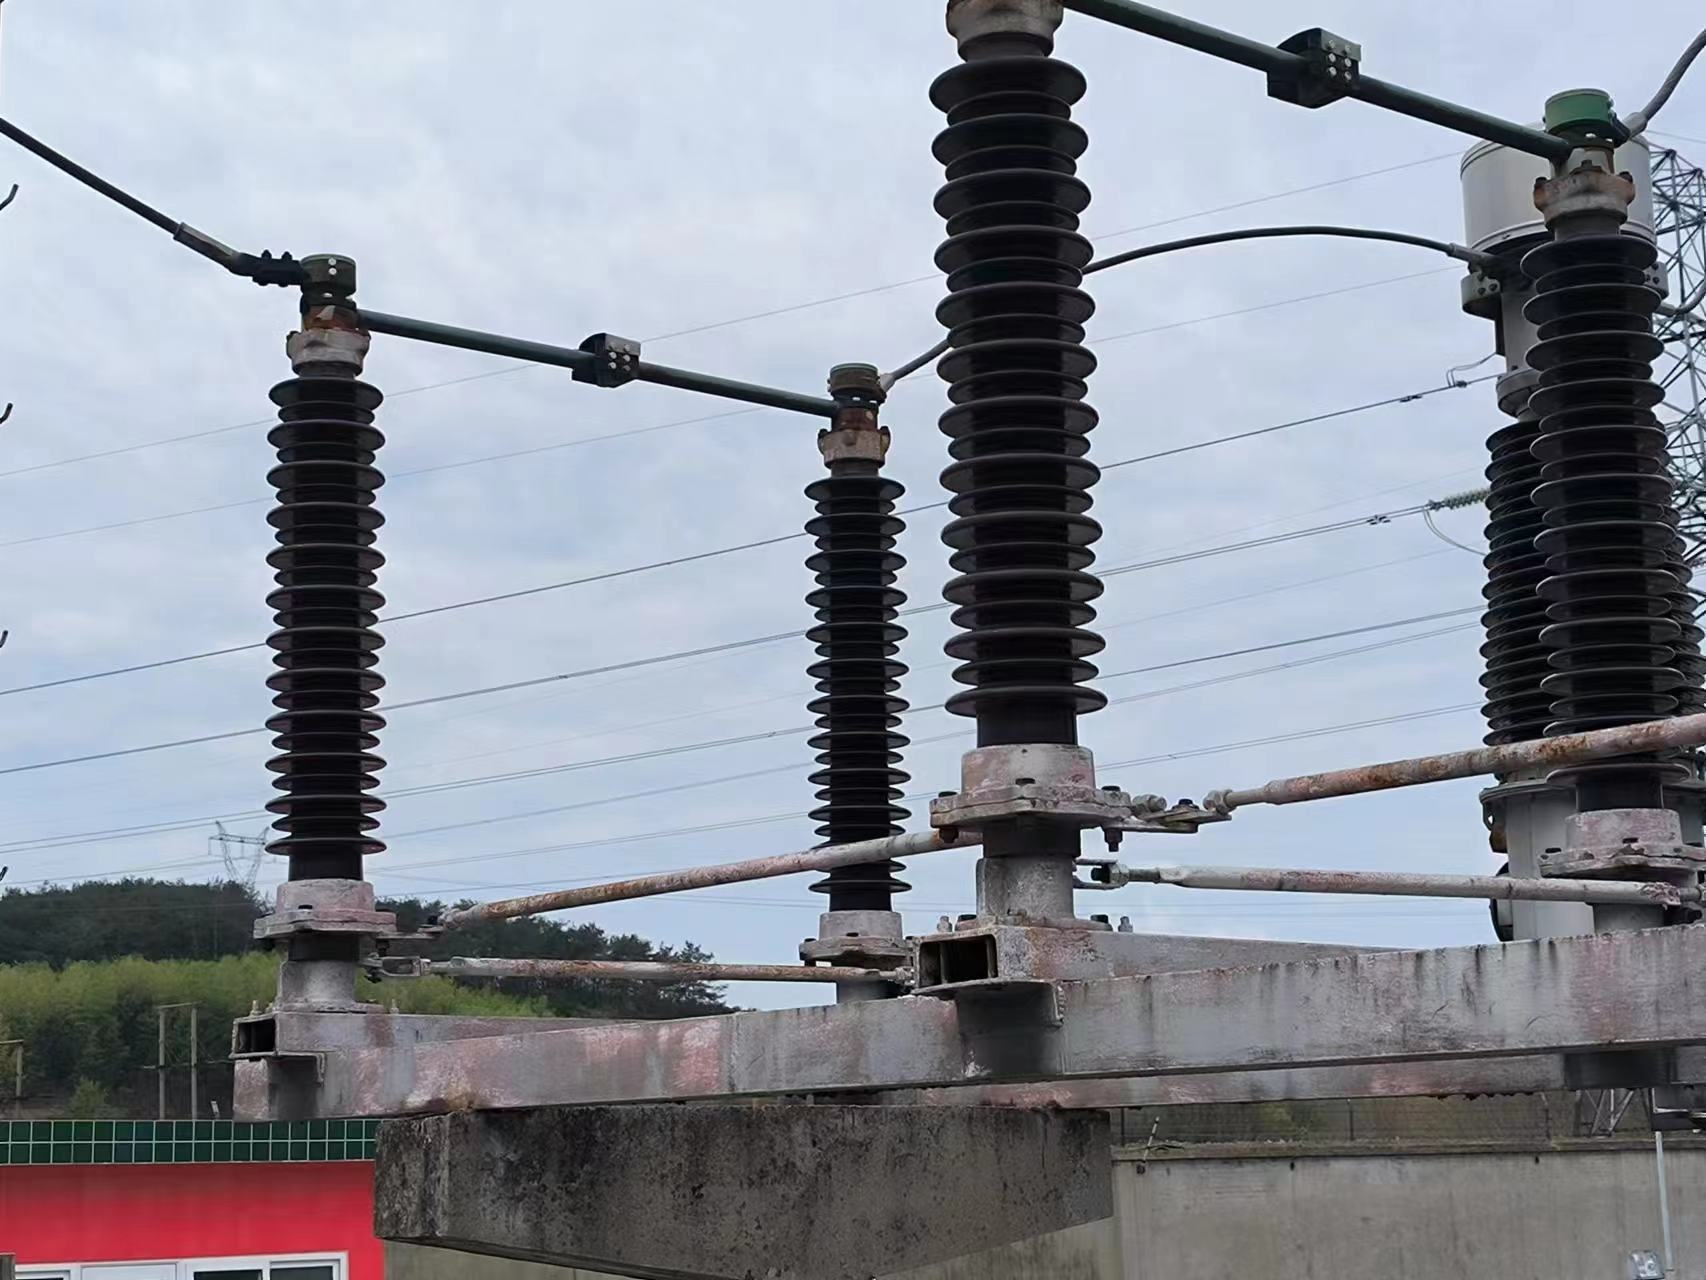Disconnecting link: (928, 1, 1703, 838), (229, 238, 917, 967)
